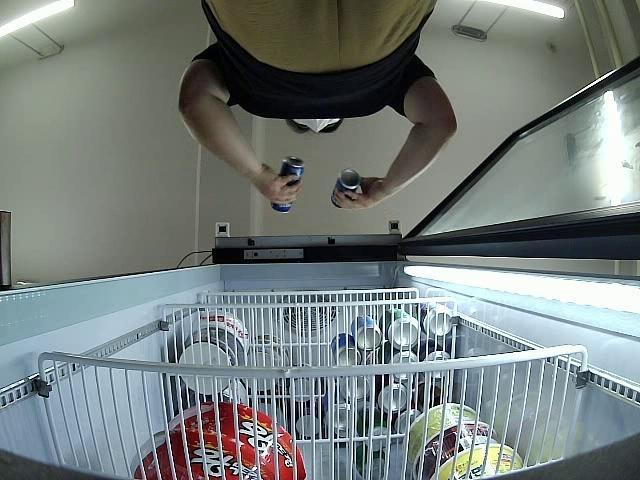16_hot6: (270, 154, 304, 214), (331, 168, 358, 206)
